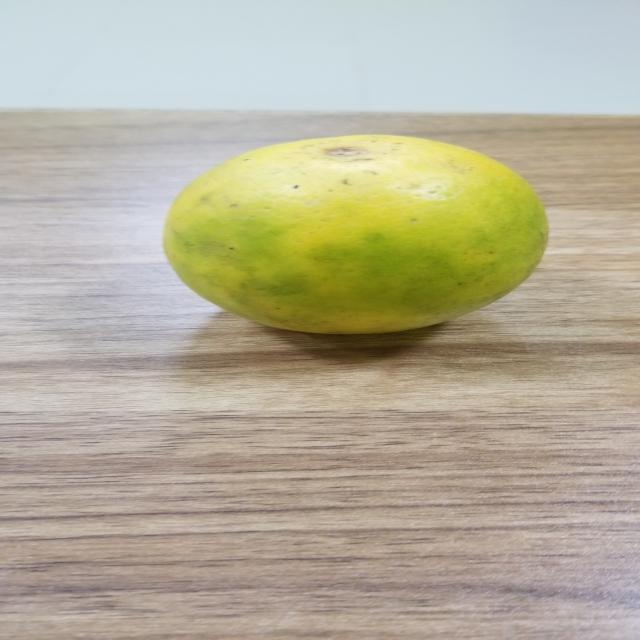agrume: (150, 128, 555, 340)
